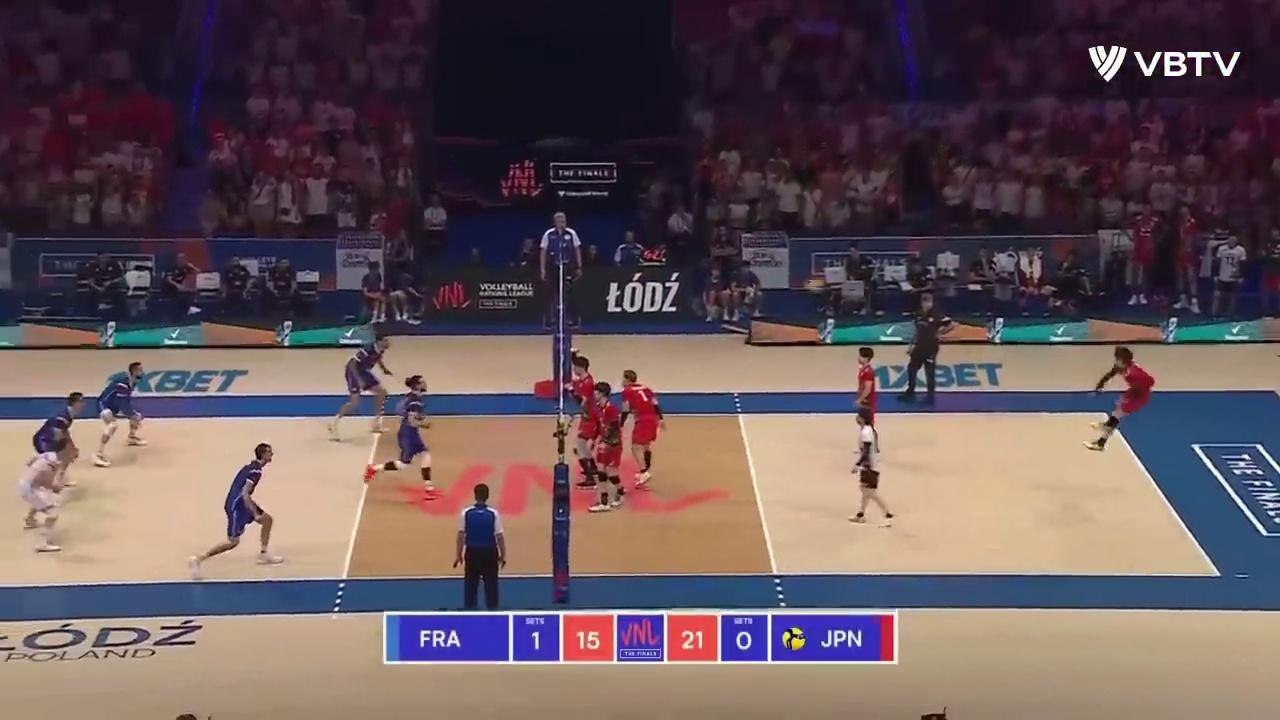ball: (806, 279, 826, 292)
